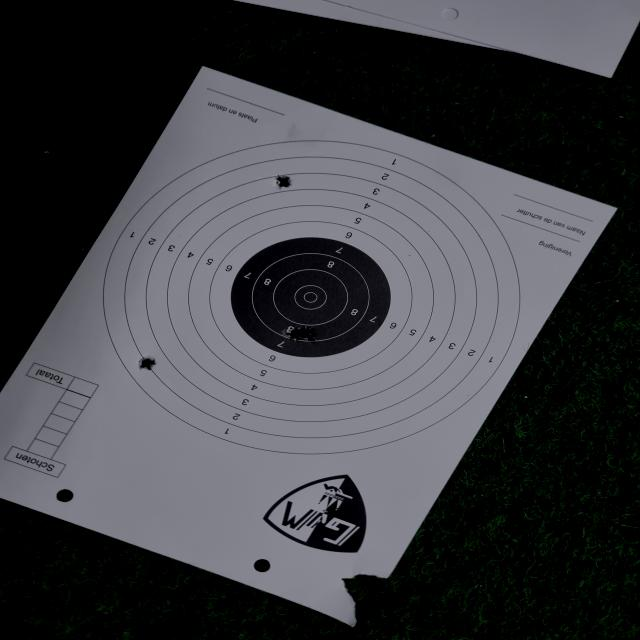2: (138, 356, 156, 371)
3: (275, 175, 292, 190)
8: (301, 325, 317, 342), (285, 326, 300, 343)
Target: (102, 138, 522, 455)
black_contour: (231, 237, 389, 356)
